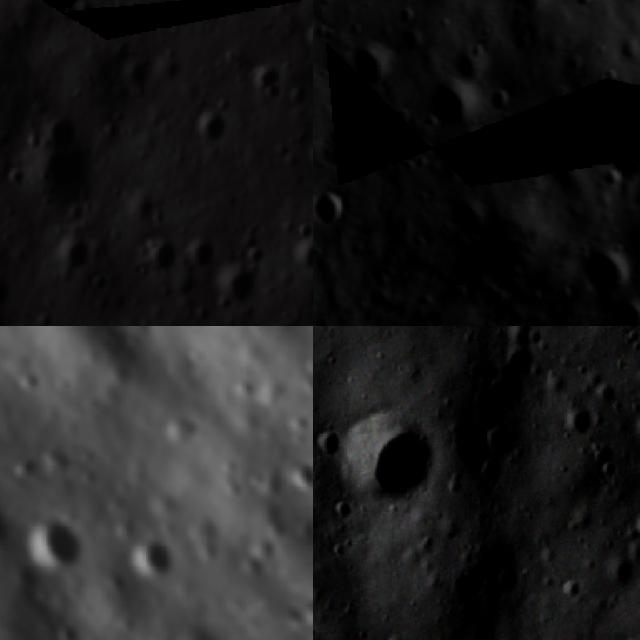crater: (336, 402, 438, 511), (7, 504, 98, 594), (29, 132, 109, 218), (121, 526, 190, 596), (607, 98, 640, 190), (54, 228, 111, 281), (580, 238, 631, 292), (423, 80, 472, 134), (273, 452, 313, 509), (113, 51, 155, 104), (192, 106, 238, 154), (346, 41, 391, 89), (488, 343, 548, 378), (137, 230, 177, 282), (246, 57, 287, 104), (491, 558, 526, 607), (598, 551, 640, 591), (0, 490, 23, 562), (313, 192, 352, 230), (283, 227, 313, 275), (222, 264, 252, 311), (480, 419, 518, 456), (563, 400, 597, 441), (473, 457, 508, 495), (180, 233, 218, 267), (488, 82, 520, 121), (295, 133, 313, 187), (315, 428, 339, 464), (328, 501, 361, 524), (560, 577, 586, 604), (237, 0, 283, 15), (611, 304, 640, 326), (302, 12, 313, 63), (612, 627, 640, 640), (488, 631, 526, 640), (380, 630, 414, 640), (631, 505, 640, 542), (565, 0, 599, 8)
